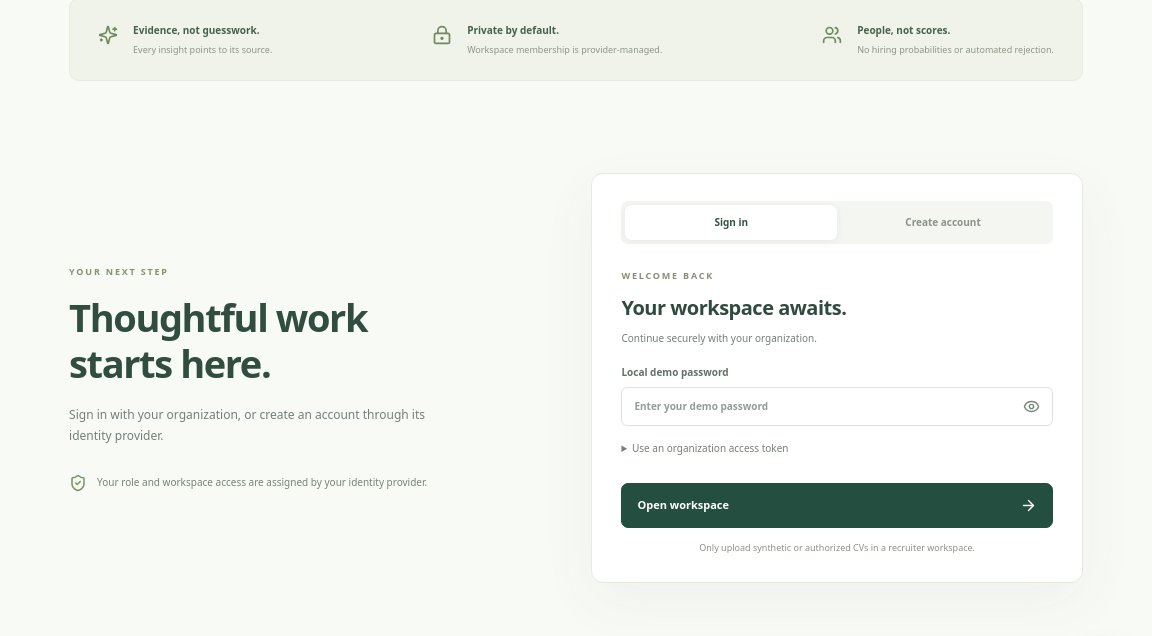
Test: login surfaces errors and then opens authenticated workspace
The width and height of the screenshot is (1152, 636).
(page scrolled)
Type "wrong" into the password field labelled "Local demo password" at (837, 406), box [621, 387, 1053, 426]
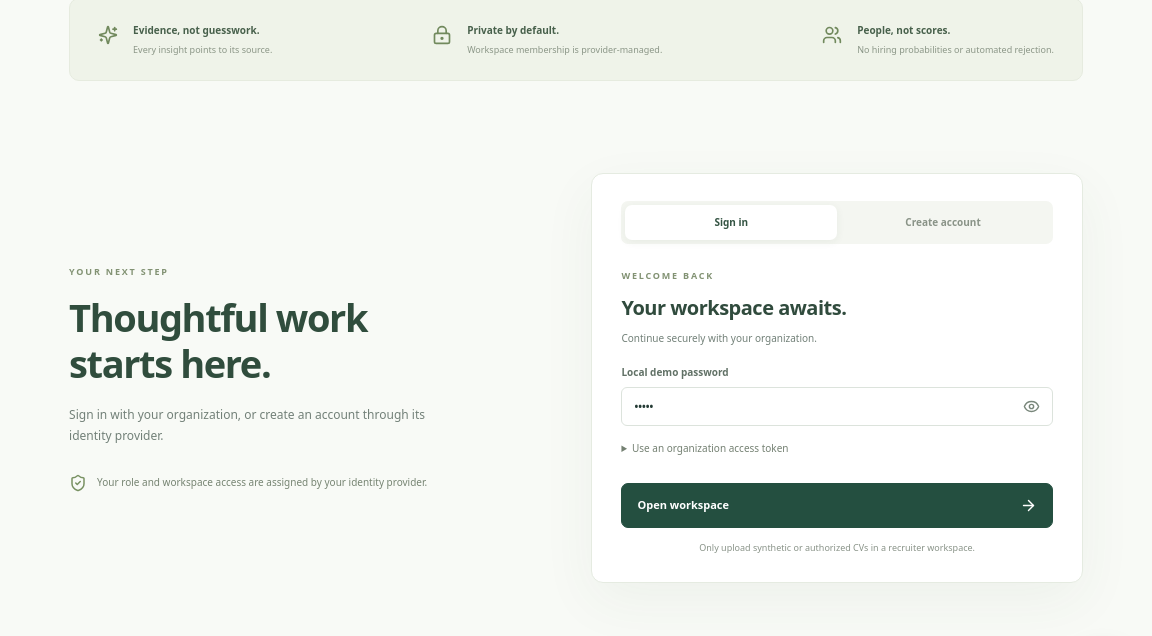
Click the button "Open workspace" at (683, 505), box [621, 483, 1053, 528]
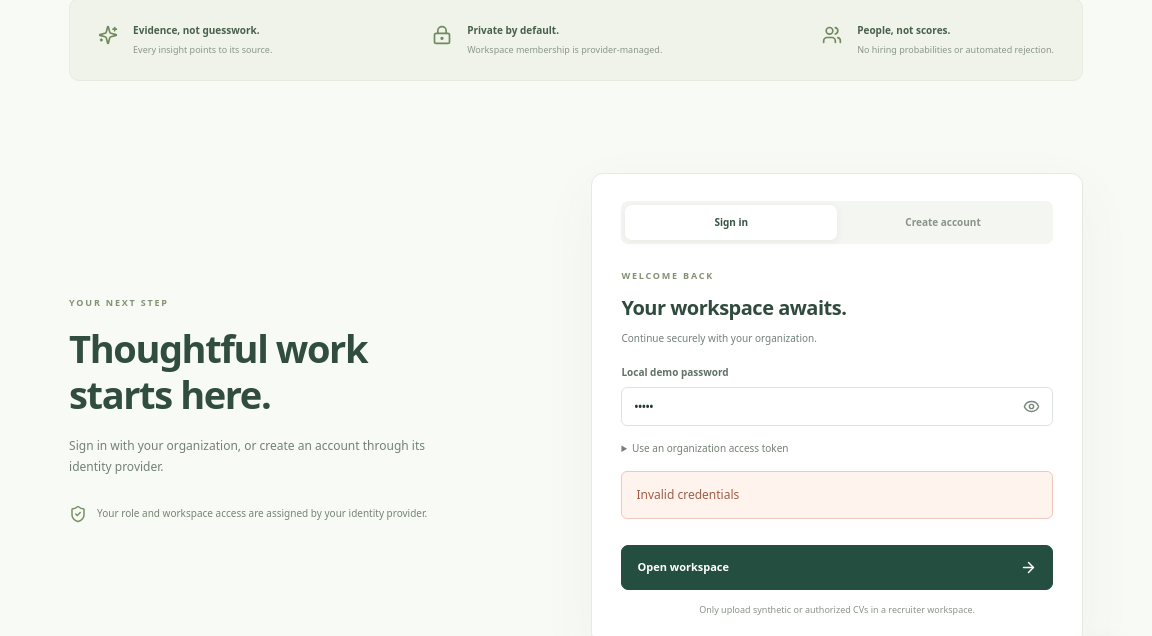
Now the message reads "Invalid credentials", box [636, 486, 739, 503]
Click the button "Open workspace" at (683, 567), box [621, 545, 1053, 590]
(page scrolled)
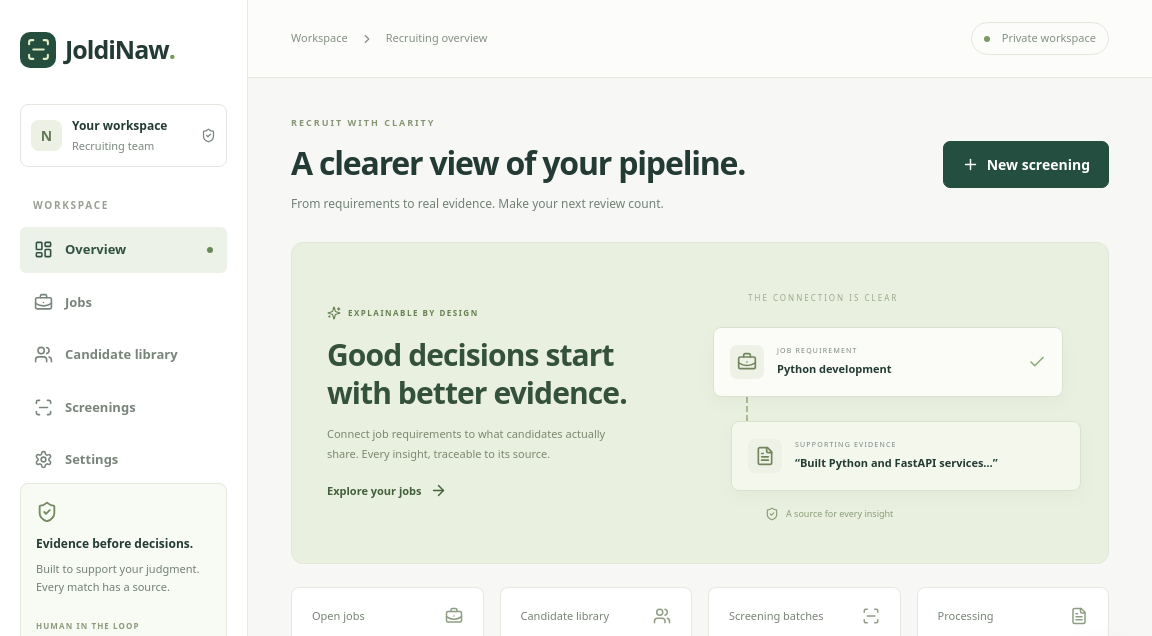
Now the heading "A clearer view of your pipeline." is shown, box [291, 142, 745, 182]
